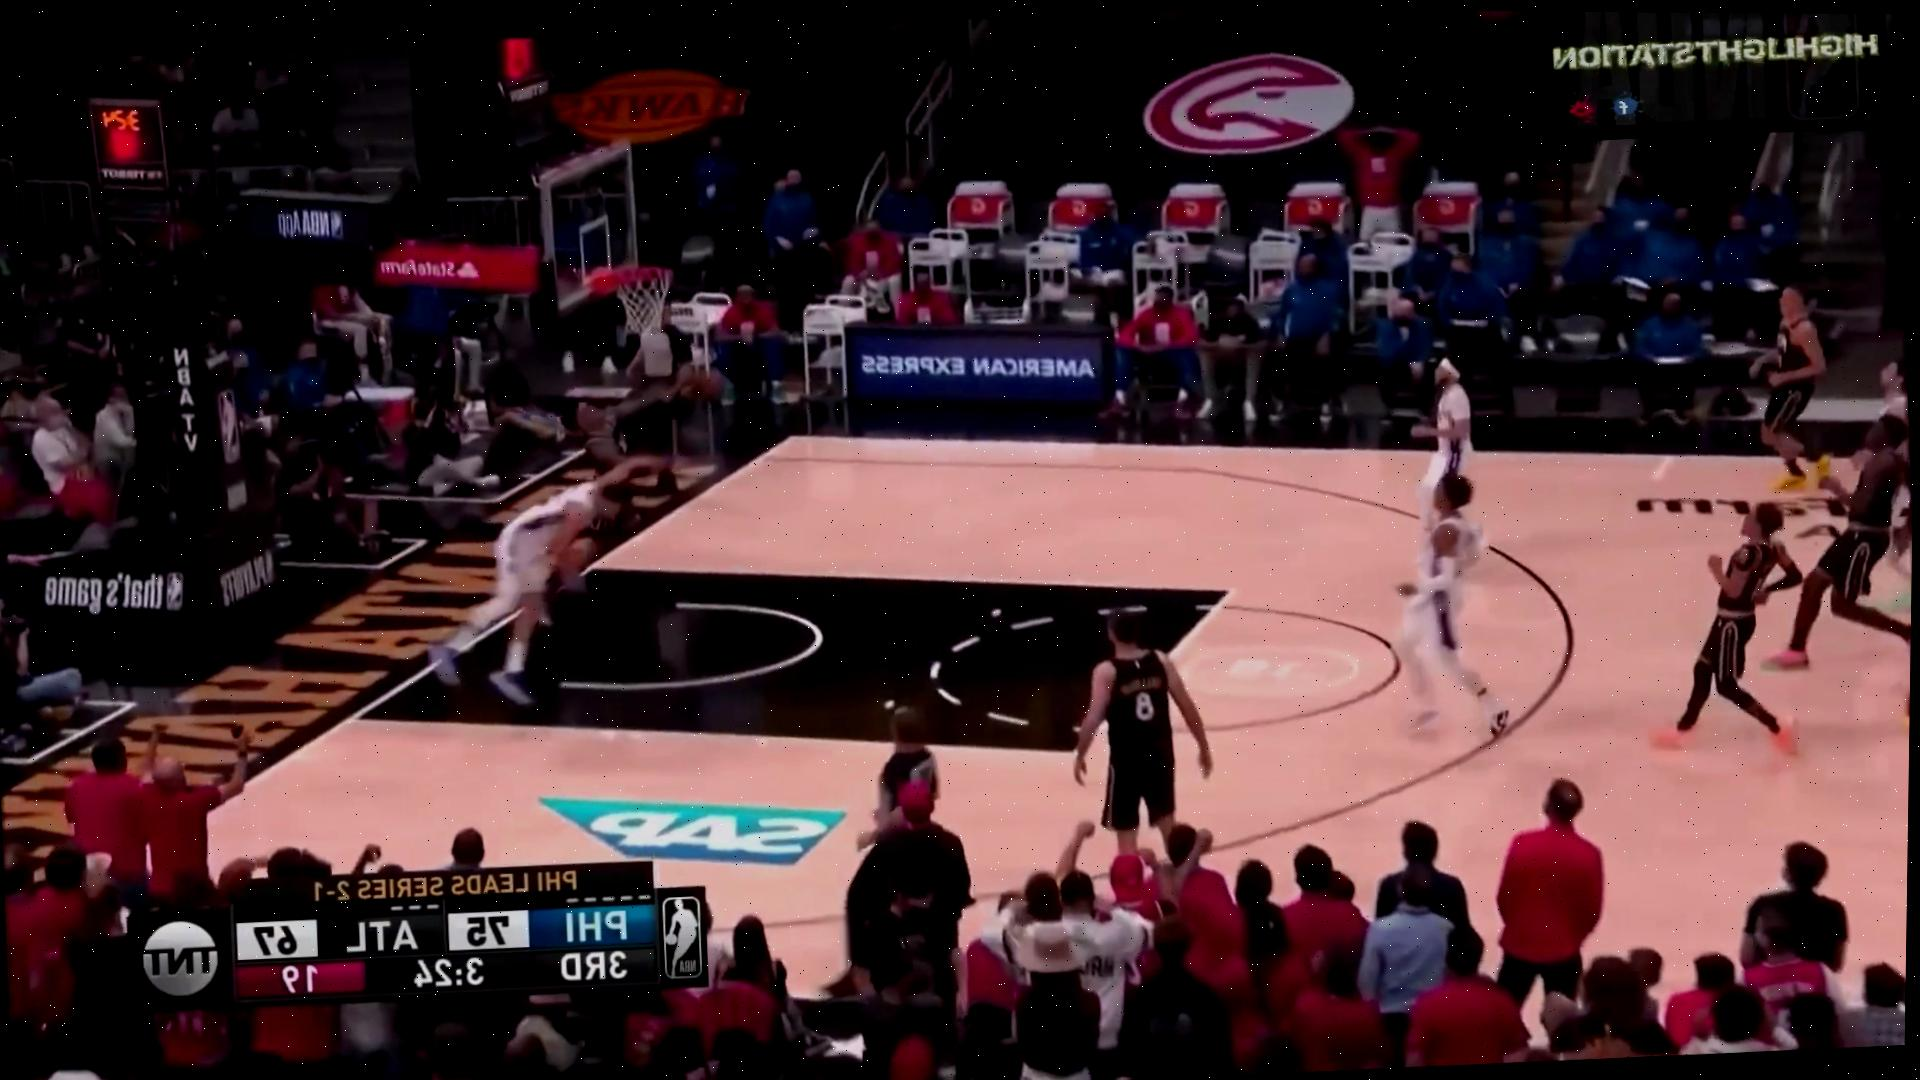foul: (416, 395, 690, 711)
